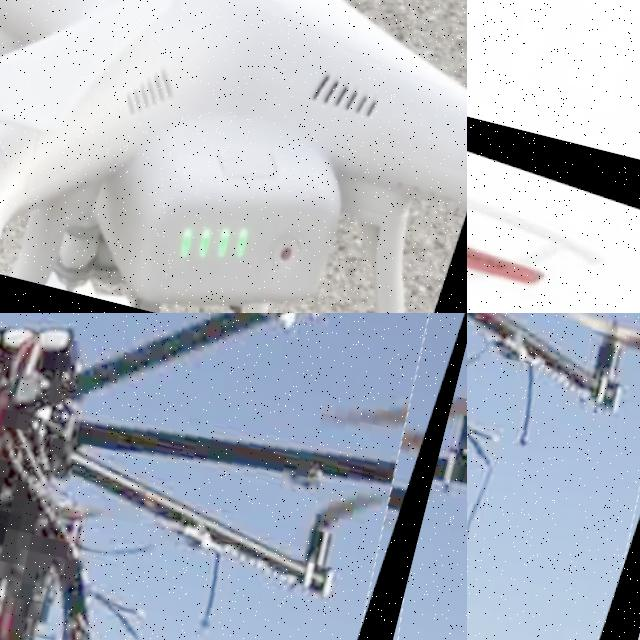drone: (0, 313, 467, 640), (0, 0, 467, 313), (467, 313, 640, 640), (467, 16, 640, 313)
